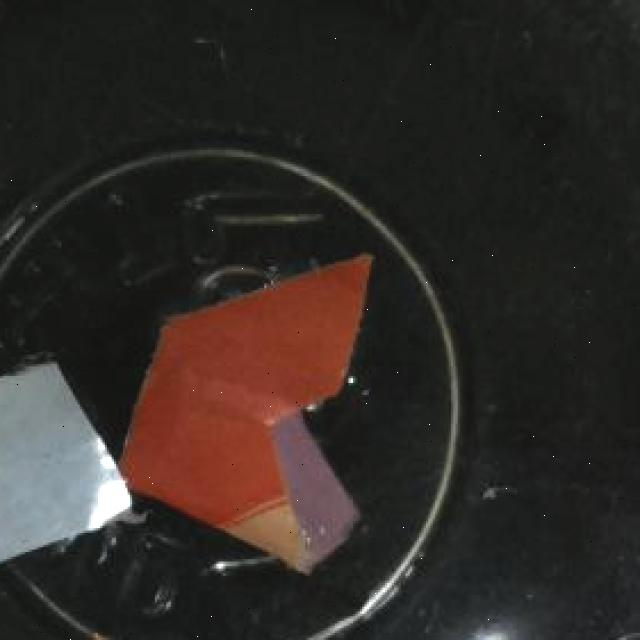Microplastic: (125, 240, 383, 576), (0, 350, 143, 576)
